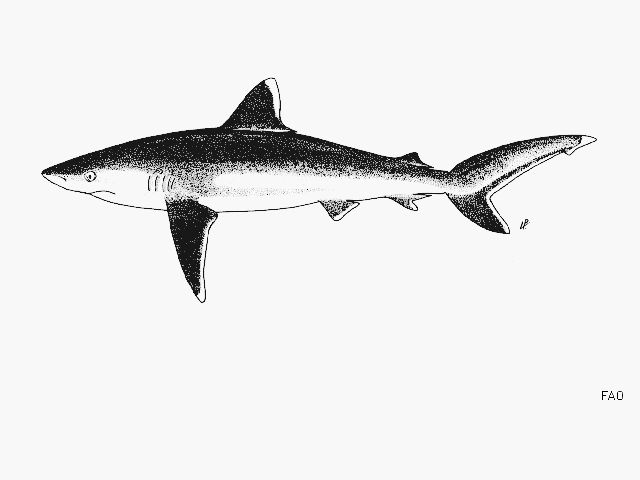fish: (40, 77, 600, 304)
